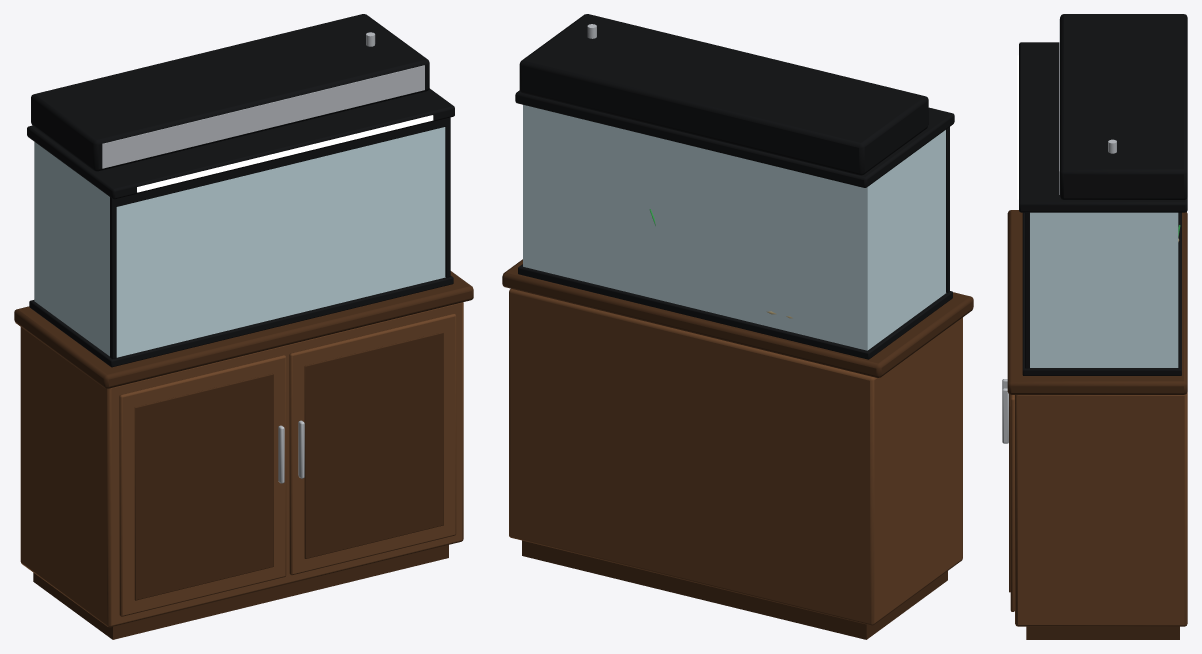
The model's file is aquarium.glb.
The picture shows the model from 3 angles, left to right: view 1: azimuth 30°, elevation 25°; view 2: azimuth 150°, elevation 25°; view 3: azimuth 270°, elevation 25°; orthographic projection. The views are drawn at different scales.
Visible parts, largest first — view 1: aquarium_aq_wood_dark, aquarium_glass_tank, aquarium_aq_wood, aquarium_aq_black, aquarium_aq_chrome, aquarium_glow_lamp; view 2: aquarium_aq_wood, aquarium_glass_tank, aquarium_aq_black, aquarium_aq_wood_dark; view 3: aquarium_aq_wood, aquarium_aq_black, aquarium_glass_tank, aquarium_aq_wood_dark, aquarium_aq_chrome, aquarium_glow_lamp.
Boxes of the visible parts, x1,y1,x2,y2 form: aquarium_aq_wood_dark: (14, 271, 473, 639); aquarium_glass_tank: (34, 127, 445, 357); aquarium_aq_wood: (20, 302, 463, 627); aquarium_aq_black: (27, 14, 454, 367); aquarium_aq_chrome: (102, 32, 424, 483); aquarium_glow_lamp: (137, 115, 433, 192); aquarium_aq_wood: (509, 288, 962, 625); aquarium_glass_tank: (523, 105, 945, 350); aquarium_aq_black: (515, 14, 954, 359); aquarium_aq_wood_dark: (502, 259, 973, 639); aquarium_aq_wood: (1010, 392, 1187, 626); aquarium_aq_black: (1019, 14, 1187, 375); aquarium_glass_tank: (1030, 212, 1178, 367); aquarium_aq_wood_dark: (1007, 210, 1187, 639); aquarium_aq_chrome: (1002, 19, 1116, 443); aquarium_glow_lamp: (1017, 55, 1018, 199).
Bounding box in the file's own units: 1.1 × 1.42 × 0.494.
